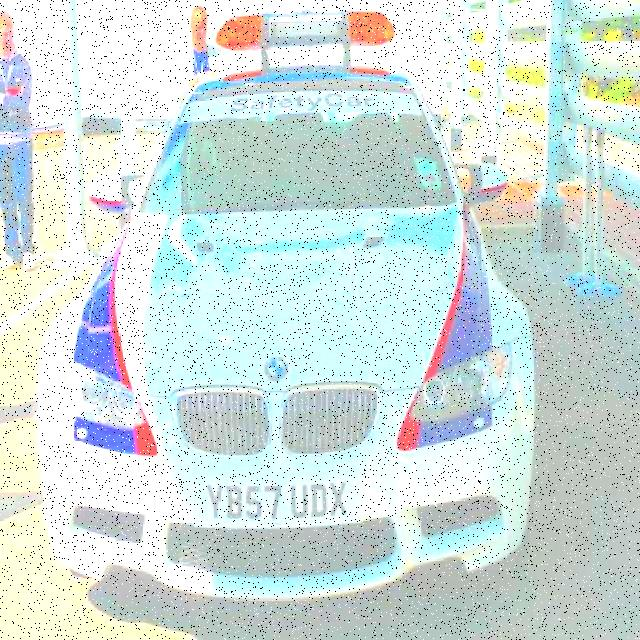license_plate: (192, 477, 363, 528)
